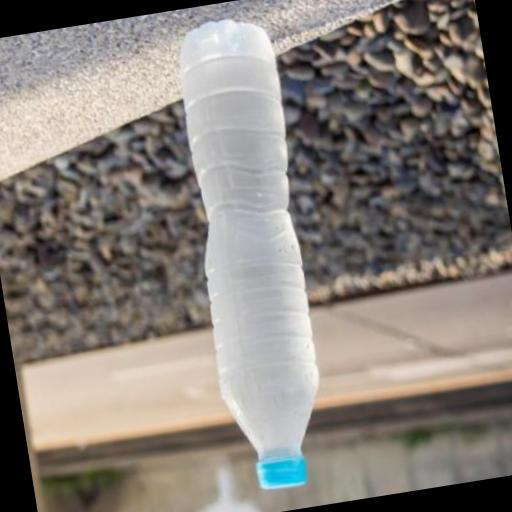Coca: (154, 6, 350, 500)
